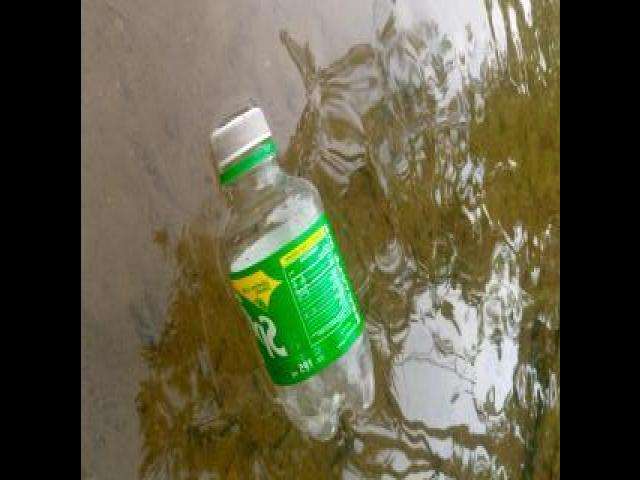Bottle: (206, 102, 380, 443)
